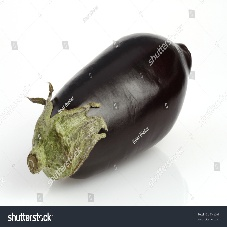eggplant: (34, 35, 194, 186)
